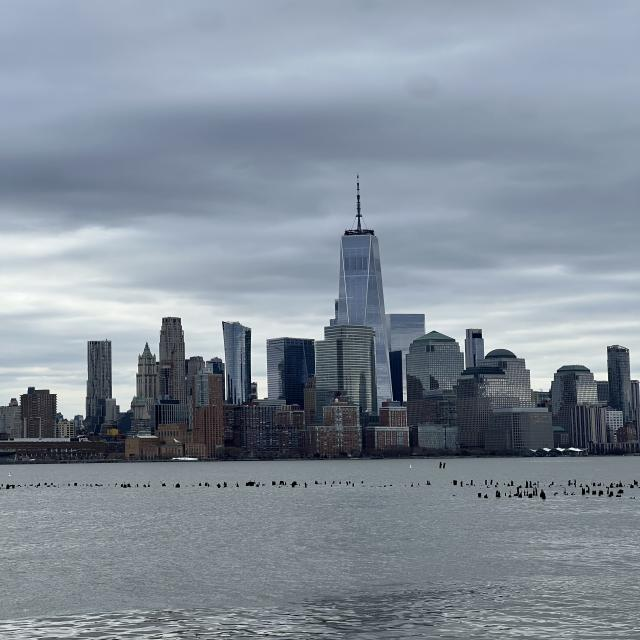WTC: (335, 174, 384, 319)
